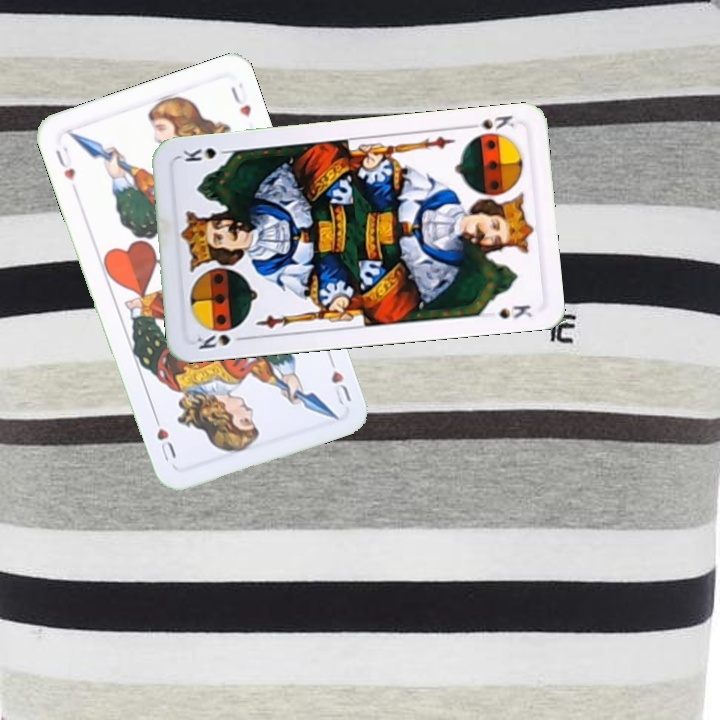HU: (324, 351, 354, 408), (51, 142, 78, 184)
SK: (193, 330, 250, 352), (462, 111, 516, 132)
